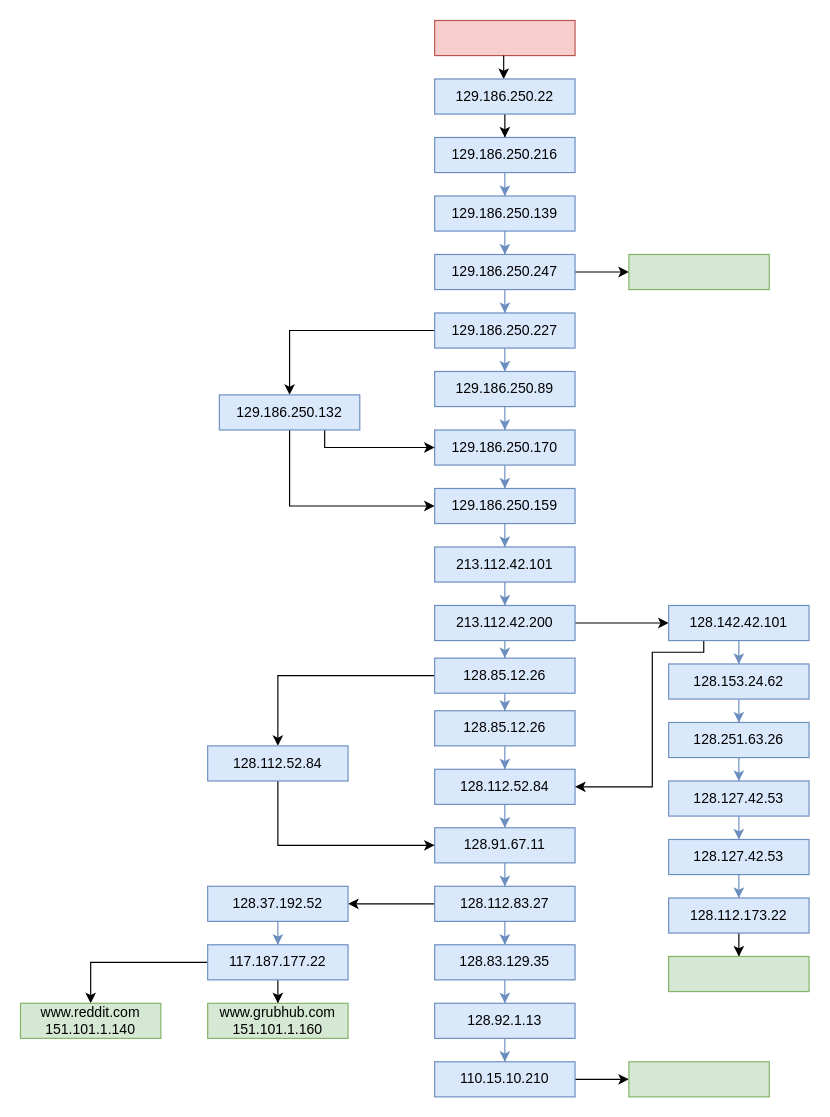
Some shapes in this 830 by 1117 pixel diagram are drawn without their labels. The box of each missing label's shape, as (x1, y1, x2, y2) in pixels:
scurlock: (433, 19, 575, 56)
www.cyio.iastate.edu 129.186.250.129: (628, 253, 769, 290)
www.mozilla.org 44.236.72.93: (628, 1061, 769, 1097)
www.nsa.gov 23.192.77.232: (667, 955, 809, 992)
